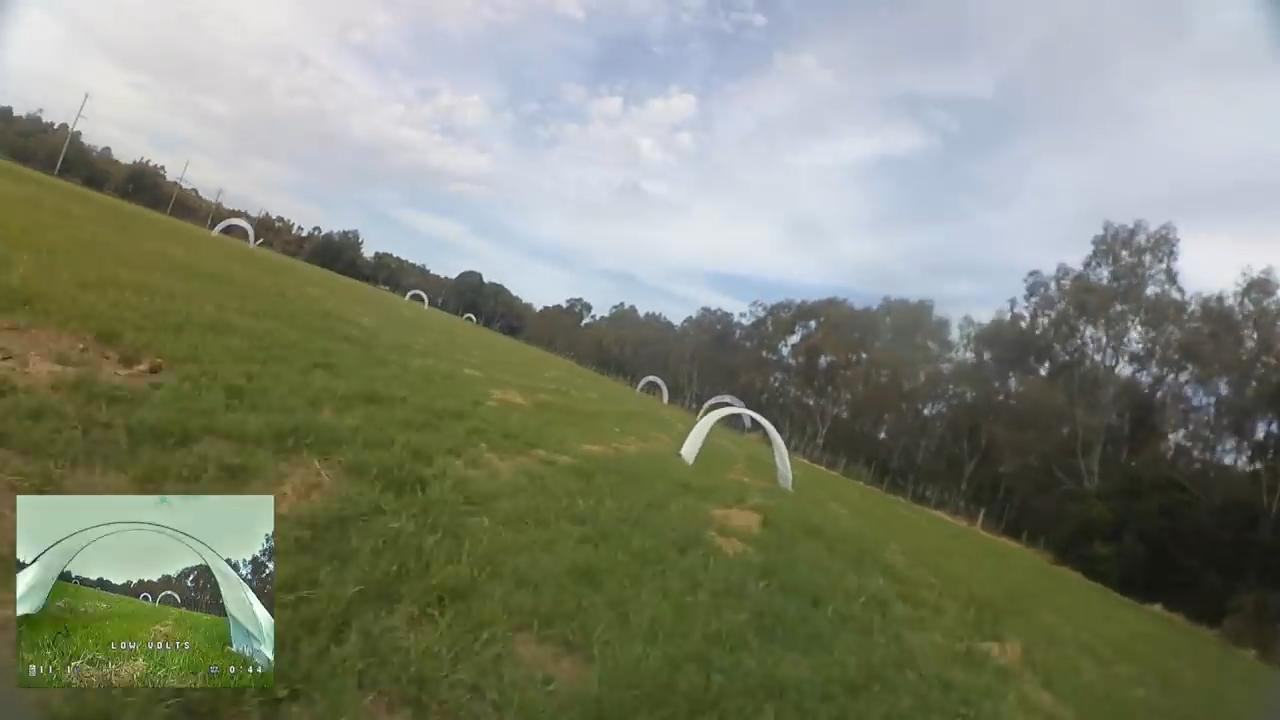gate: (678, 409, 797, 497), (211, 216, 256, 254), (633, 373, 670, 409)
